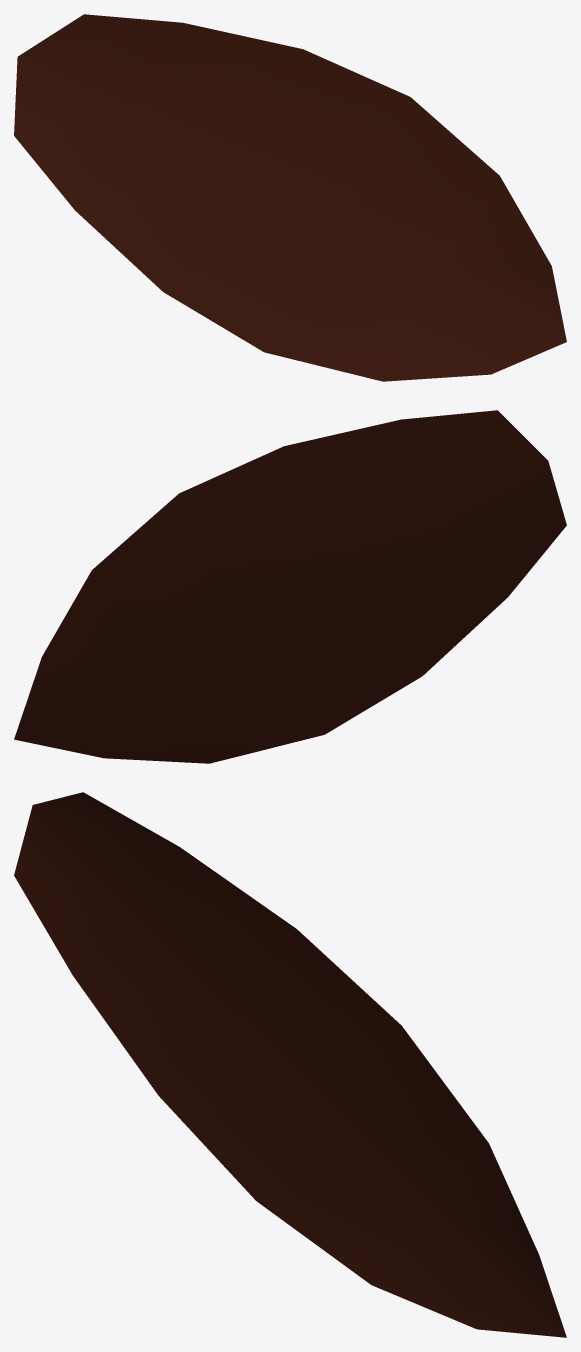
File: rooster_feather_flight_tertiary_060.obj
3 views of the same model, one above another, from view 1: azimuth 30°, elevation 25°; view 2: azimuth 150°, elevation 25°; view 3: azimuth 330°, elevation 25° (orthographic). The views are drawn at different scales.
Parts seen in each view (by area): view 1: feather_flight_tertiary_060; view 2: feather_flight_tertiary_060; view 3: feather_flight_tertiary_060.
Part boxes in pixels (<box>): feather_flight_tertiary_060: <box>14,14,566,381</box>; feather_flight_tertiary_060: <box>14,410,566,763</box>; feather_flight_tertiary_060: <box>14,792,566,1337</box>.
Size of the model in its own units: 0.0217 by 0.0169 by 0.000769.
